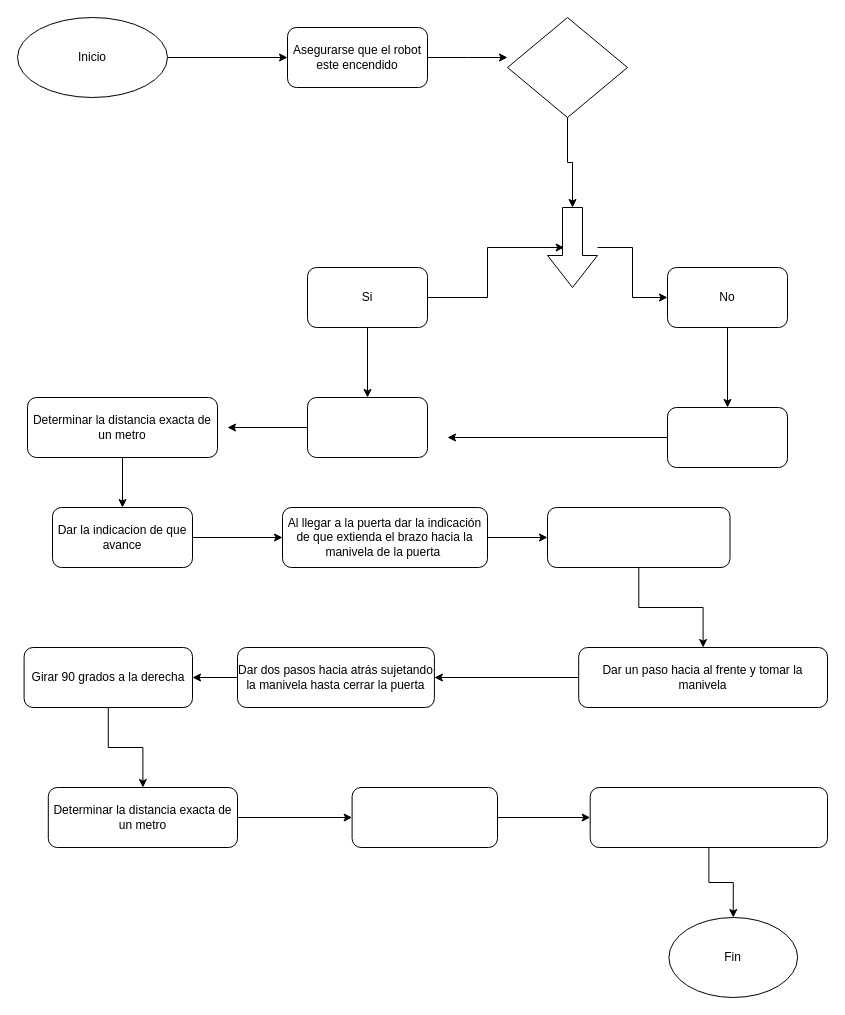
Some shapes in this 845 by 1015 pixel diagram are drawn without their labels. Here are the shapes that lost their labels. From the top down, the centre of each, then its label:
pixel 567 67: ¿Esta encendido?
pixel 367 427: Girar el robot 90 grados en dirección a la puerta
pixel 727 437: Presionar el botón de encendido
pixel 638 537: Tomar la manivela, girarla hacia la derecha y empujar la puerta
pixel 424 817: Dar la indicación de que avance
pixel 708 817: Girar el robot nuevamente 90 grados hacia la posición inicial.
